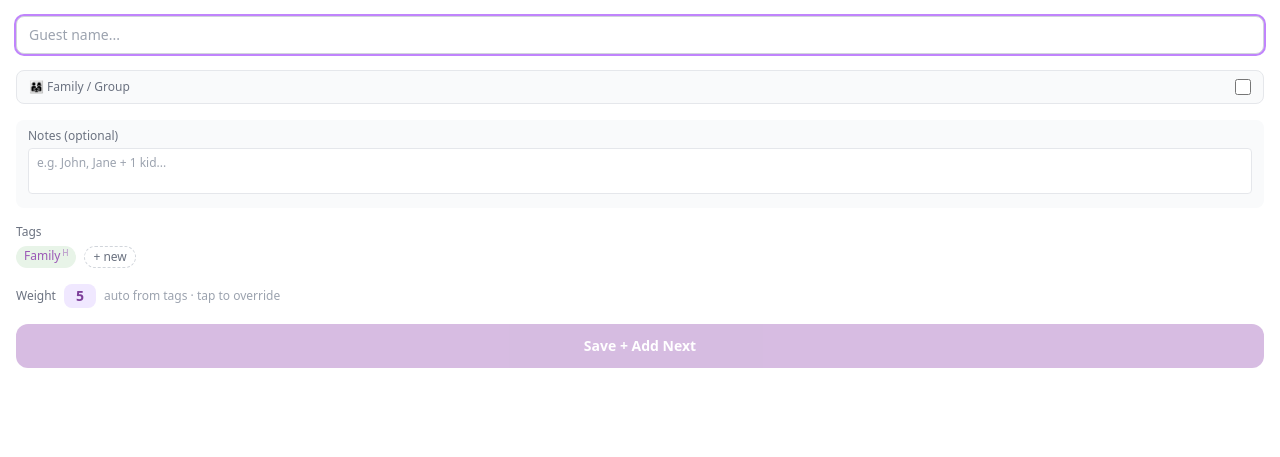
Test: AddGuest › shows counters and notes when toggle is turned on
Click the checkbox labelled "👨‍👩‍👧 Family / Group" at (1243, 87), box [1235,79,1251,95]
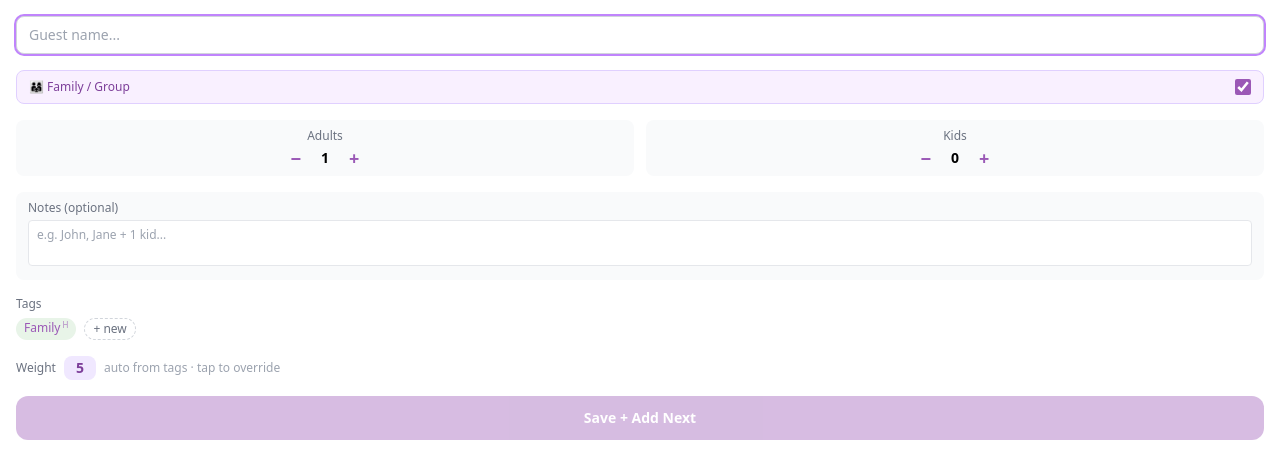
Expected: the text box with placeholder "e.g. John, Jane + 1 kid..." is shown, [28,220,1252,266]
Now the text "Adults" is shown, box [307,127,343,144]
Now the text "Kids" is shown, box [943,127,967,144]
